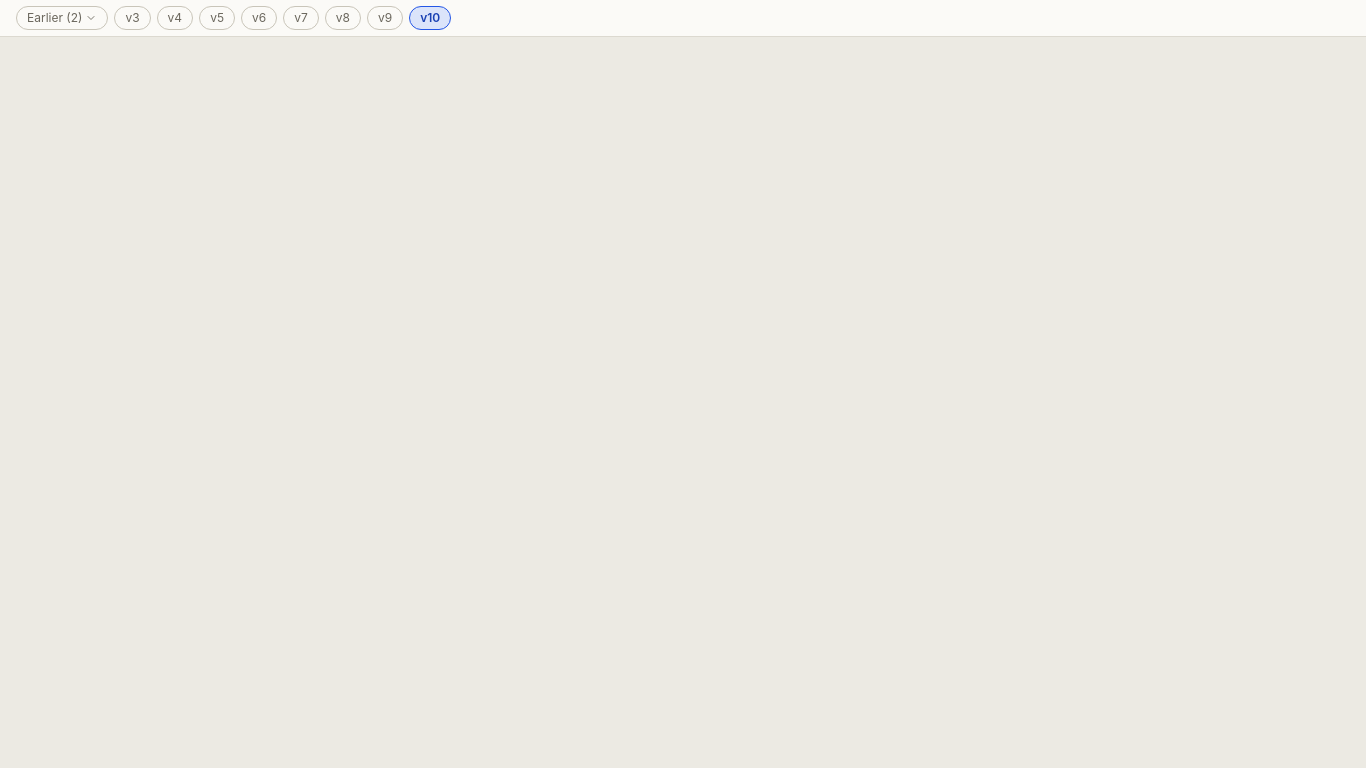
Test: VersionStrip › with more than 8 versions › closes on an outside click without selecting
This screenshot has width=1366, height=768.
Step 1. Click the button "Earlier (2)" → (62, 18), box x1=16 y1=6 x2=108 y2=30
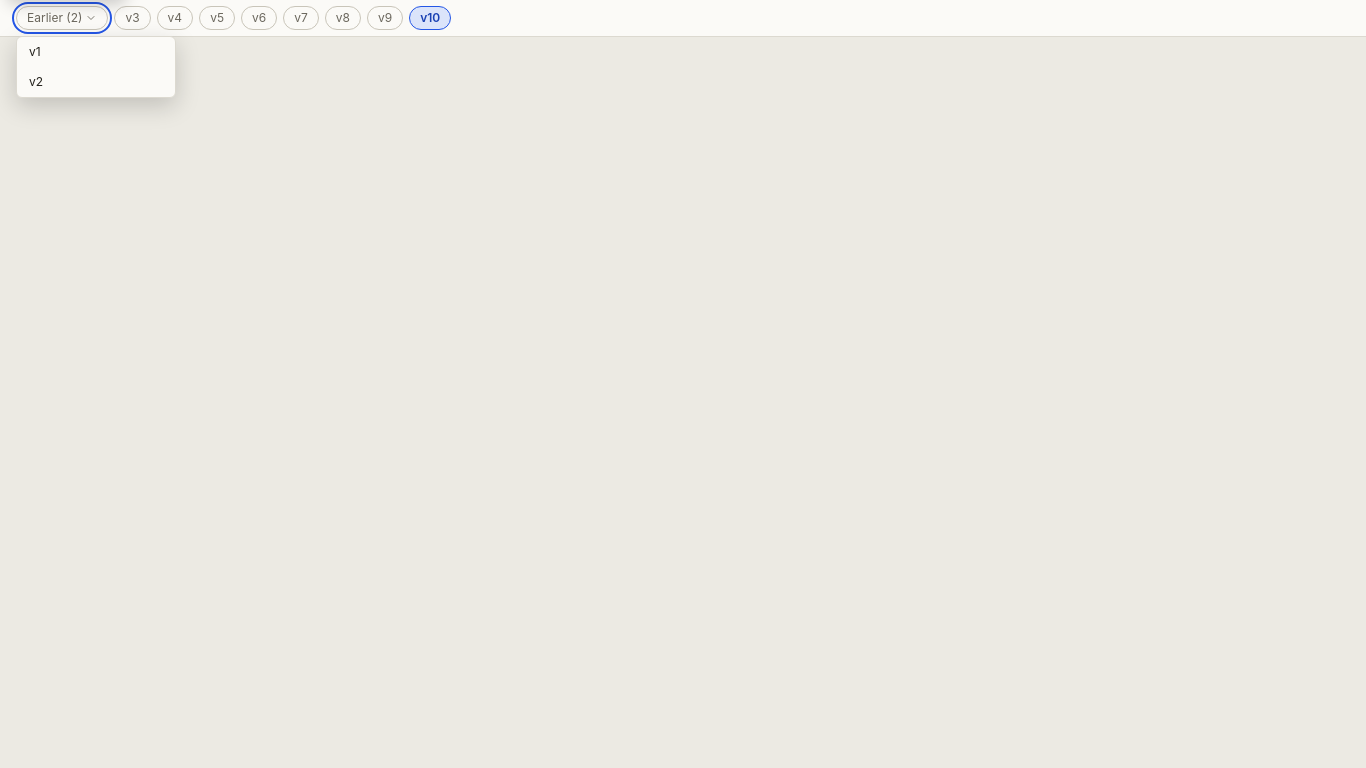
Result: the list is shown at x1=16 y1=36 x2=176 y2=98
Step 2. Click the element that starts with "Earlier (2)" → (683, 384), box x1=0 y1=0 x2=1365 y2=767
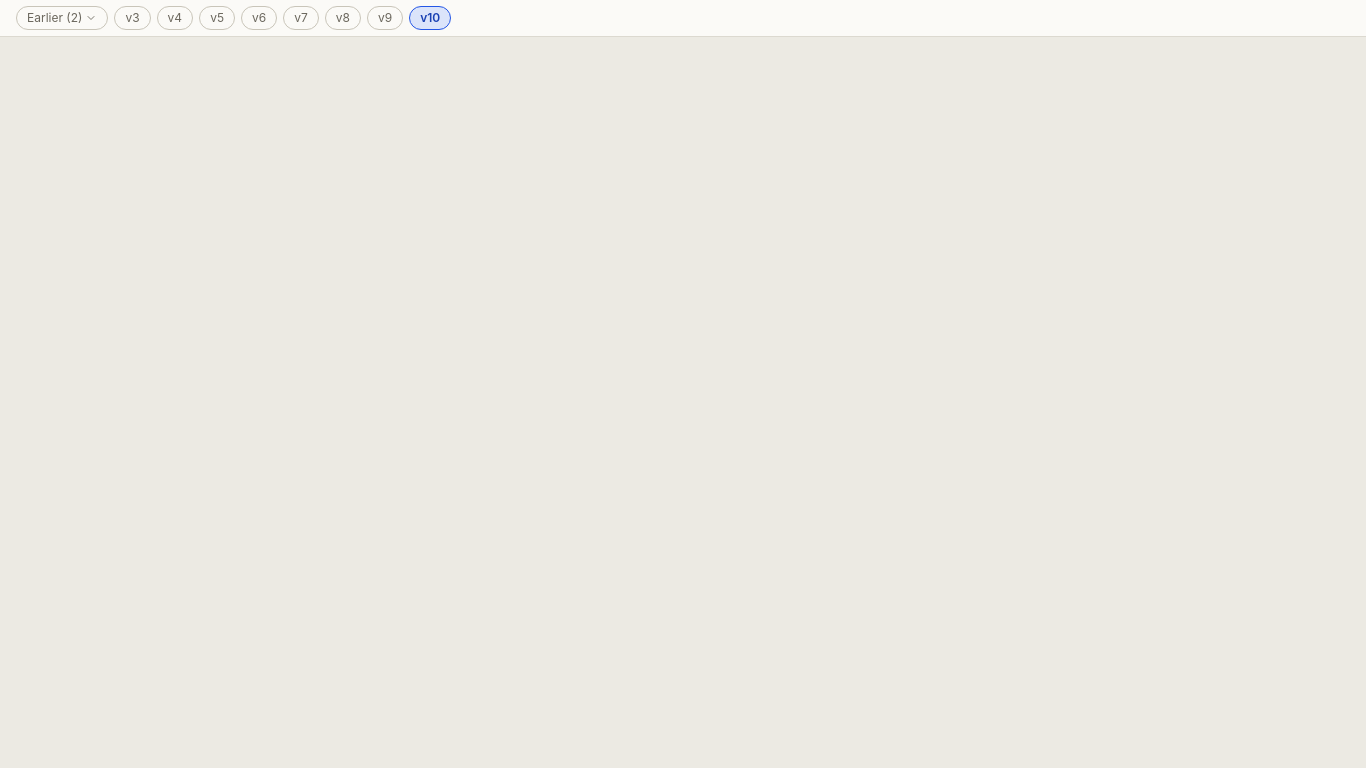
Result: the list is gone
